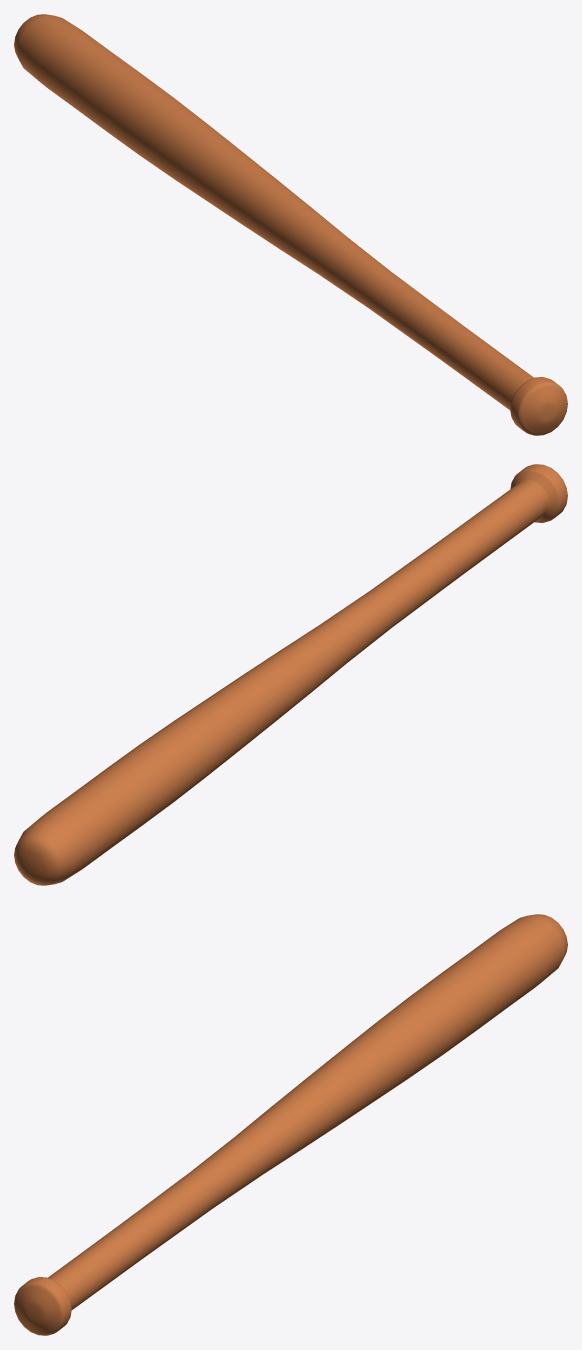
The model's file is Bat_01.fbx.
3 views of the same model, one above another, from view 1: azimuth 30°, elevation 25°; view 2: azimuth 150°, elevation 25°; view 3: azimuth 330°, elevation 25° (orthographic).
Parts seen in each view (by area): view 1: Bat_01; view 2: Bat_01; view 3: Bat_01.
Boxes of the visible parts, x1,y1,x2,y2 form: Bat_01: (14, 14, 567, 435); Bat_01: (14, 464, 567, 885); Bat_01: (14, 914, 567, 1335).
Size of the model in its own units: 0.5021 by 0.5015 by 7.63.
